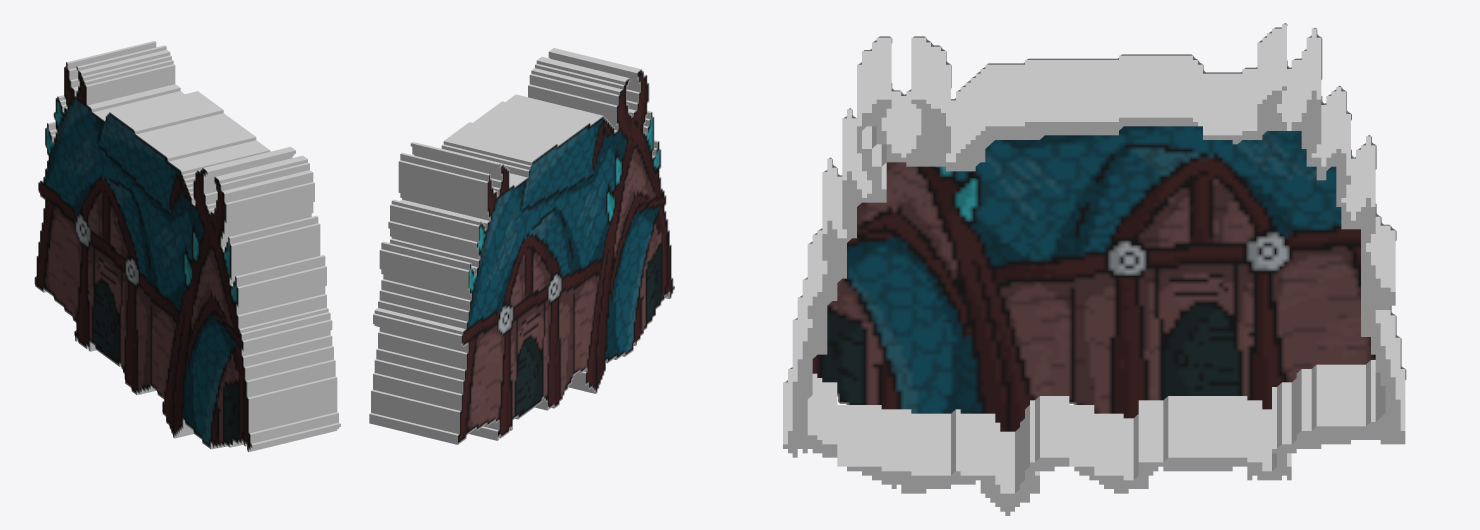
File: bluehousefbx.fbx
3 renders of one model, left to right at view 1: azimuth 30°, elevation 25°; view 2: azimuth 150°, elevation 25°; view 3: azimuth 270°, elevation 25°, orthographic. The views are drawn at different scales.
Parts seen in each view (by area): view 1: houseblue, Curve.2091; view 2: houseblue, Curve.2091; view 3: houseblue, Curve.2091.
Boxes of the visible parts, x1,y1,x2,y2 form: houseblue: (34,62,251,450); Curve.2091: (35,41,340,451); houseblue: (457,69,674,443); Curve.2091: (369,48,674,444); houseblue: (785,23,1406,431); Curve.2091: (783,24,1405,515).
Size of the model in its own units: 0.837 by 2.82 by 4.24.
Materials: 2 (1 with a texture image).
